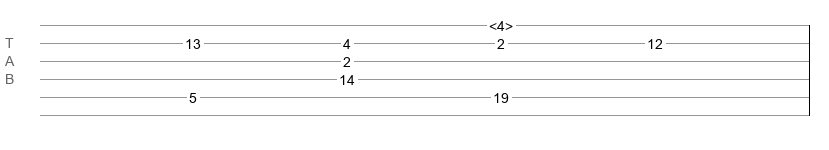12: (647, 36, 663, 46)
13: (185, 36, 201, 46)
14: (339, 72, 355, 82)
19: (493, 90, 509, 100)
2: (343, 54, 351, 64), (497, 36, 505, 46)
4: (343, 36, 351, 46)
5: (189, 90, 197, 100)
harmonic: (489, 18, 513, 28)
